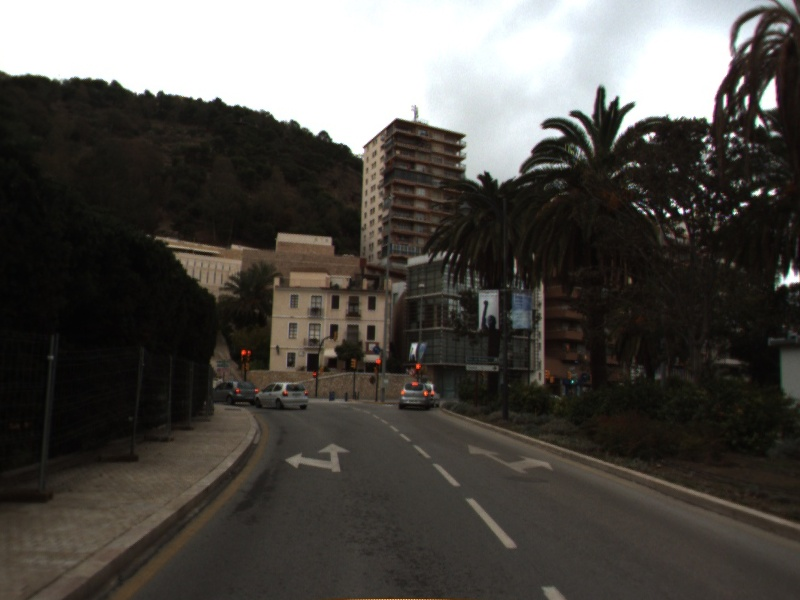STRAIGHT_LEFT: (283, 441, 352, 474)
STRAIGHT_RIGHT: (466, 442, 555, 475)
